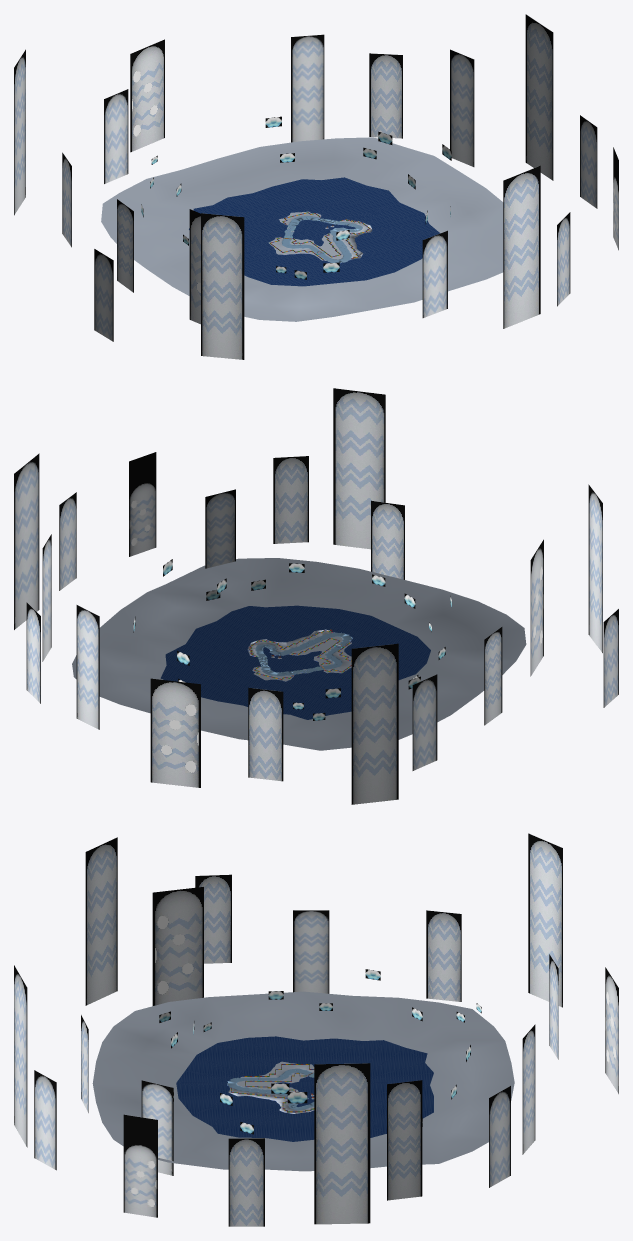
3 views of the same model, one above another, from view 1: azimuth 30°, elevation 25°; view 2: azimuth 150°, elevation 25°; view 3: azimuth 270°, elevation 25° (orthographic). The views are drawn at different scales.
Visible parts, largest first — view 1: polygon.010, polygon.013, polygon.000, polygon.011, polygon.002; view 2: polygon.010, polygon.013, polygon.000, polygon.011, polygon.002; view 3: polygon.010, polygon.013, polygon.000, polygon.011, polygon.002.
Part boxes in pixels (<box>): polygon.010: <box>14,14,618,359</box>; polygon.013: <box>101,137,503,321</box>; polygon.000: <box>189,177,440,286</box>; polygon.011: <box>141,116,451,279</box>; polygon.002: <box>281,216,362,263</box>; polygon.010: <box>14,388,618,804</box>; polygon.013: <box>72,558,526,750</box>; polygon.000: <box>160,605,430,719</box>; polygon.011: <box>133,559,451,720</box>; polygon.002: <box>255,632,352,676</box>; polygon.010: <box>14,833,618,1226</box>; polygon.013: <box>92,991,514,1171</box>; polygon.000: <box>176,1036,433,1141</box>; polygon.011: <box>159,969,481,1134</box>; polygon.002: <box>227,1068,314,1110</box>.
Size of the model in its own units: 300820 by 85126 by 291514.
Materials: 15 (15 with a texture image).
